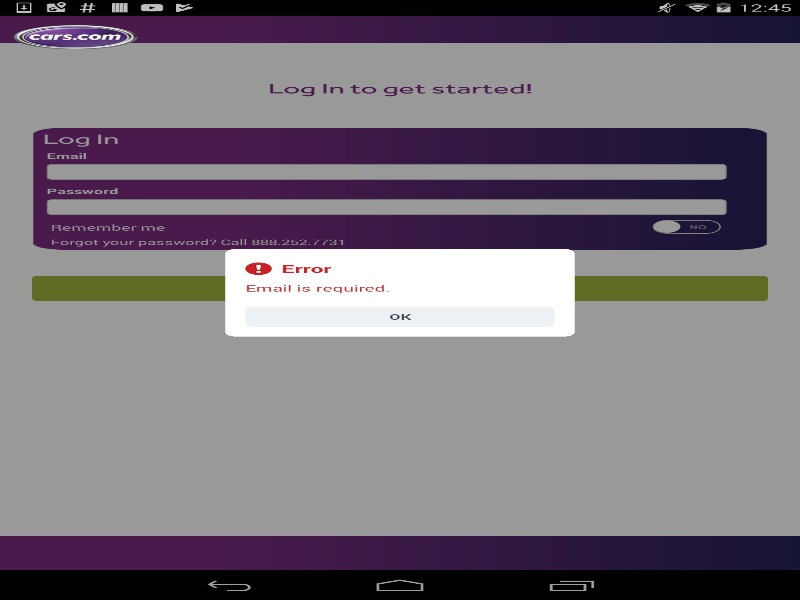Button: (32, 275, 768, 300), (245, 306, 554, 327)
Input: (53, 160, 720, 182), (53, 196, 720, 218)
